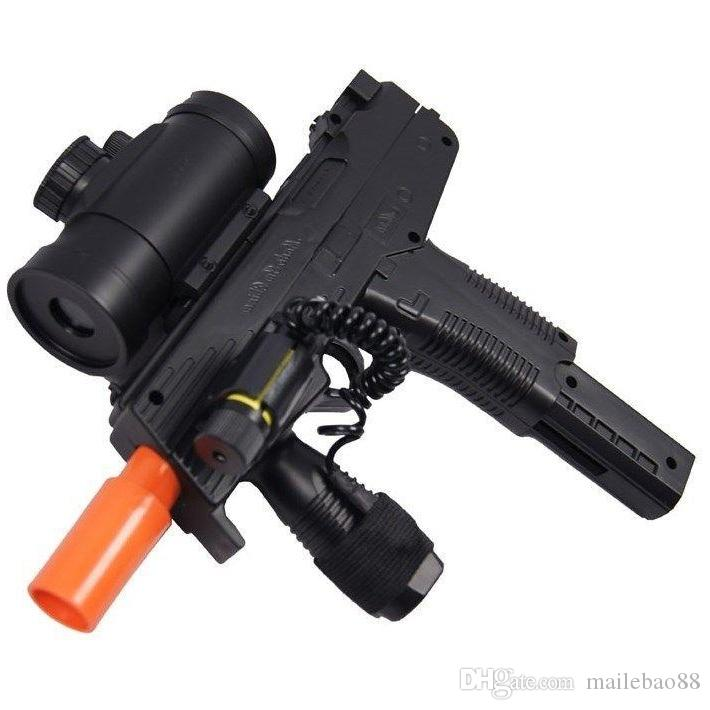Arma Falsa: (19, 67, 696, 668)
